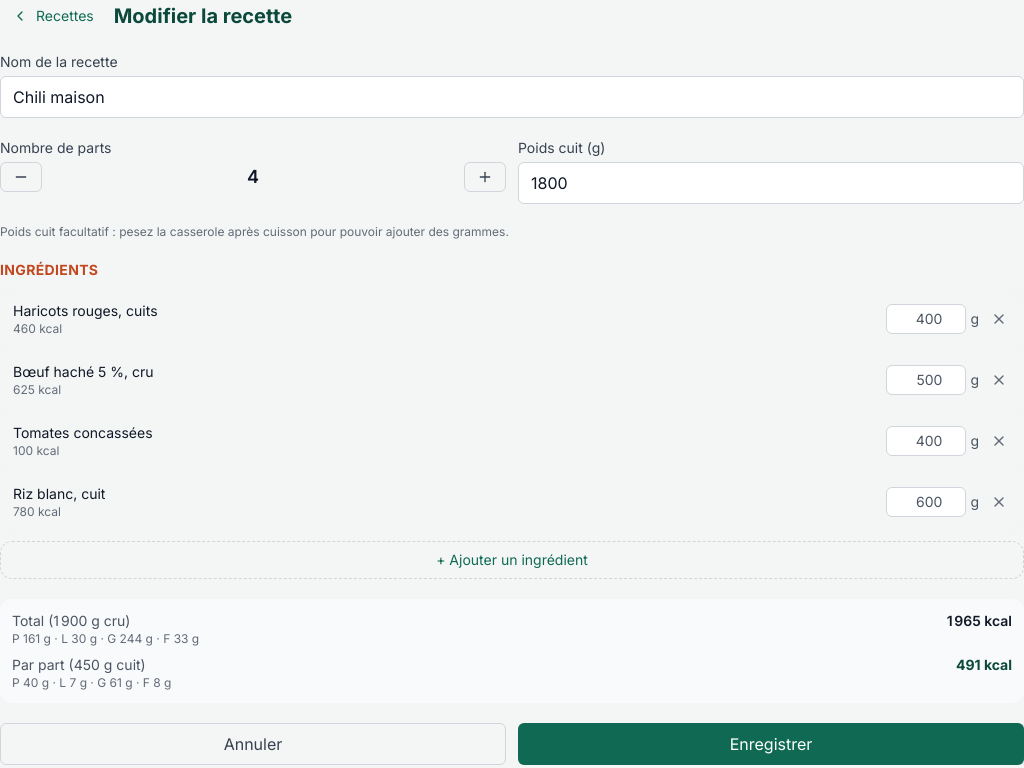
RecipeEditor › garde la saisie et explique l’erreur quand l’enregistrement échoue
This screenshot has width=1024, height=768.
Click the button "Enregistrer".
click(771, 744)  # box [518,723,1023,765]
(page scrolled)
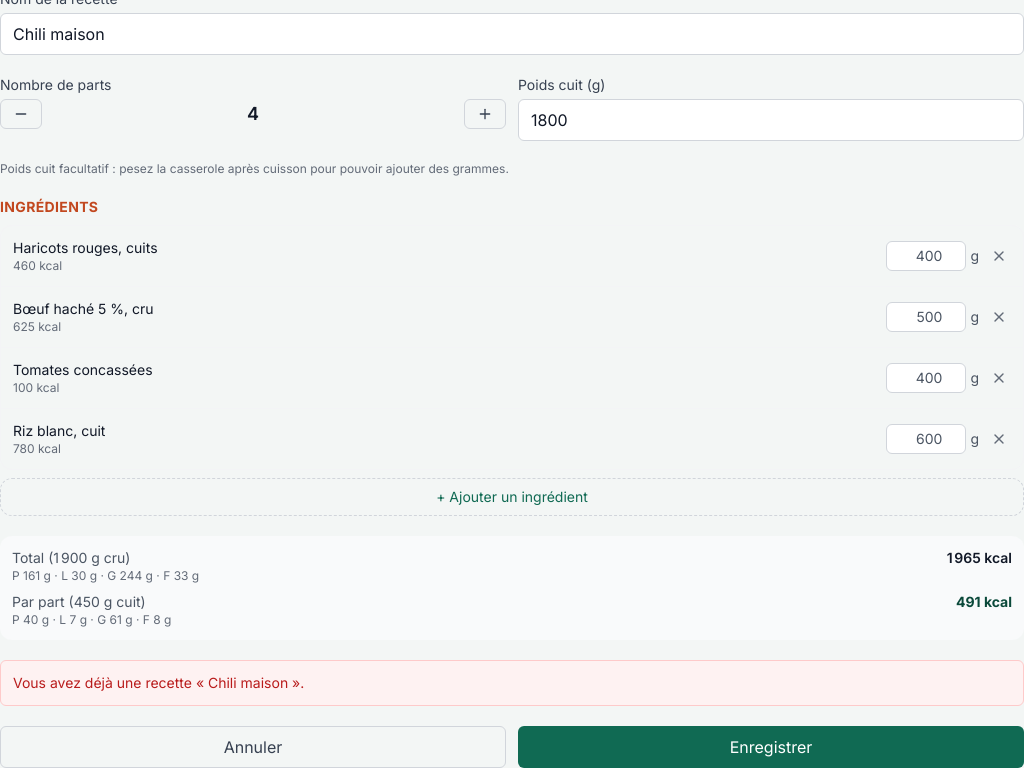
expect the field labelled "Nom de la recette" holds "Chili maison": met, box [0,13,1023,55]
expect the message reads "Vous avez déjà une recette « Chili maison ».": met, box [13,674,304,691]
